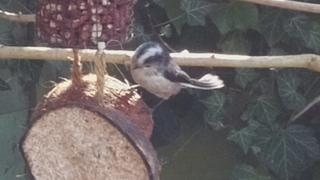long tailed tit: (121, 41, 225, 113)
